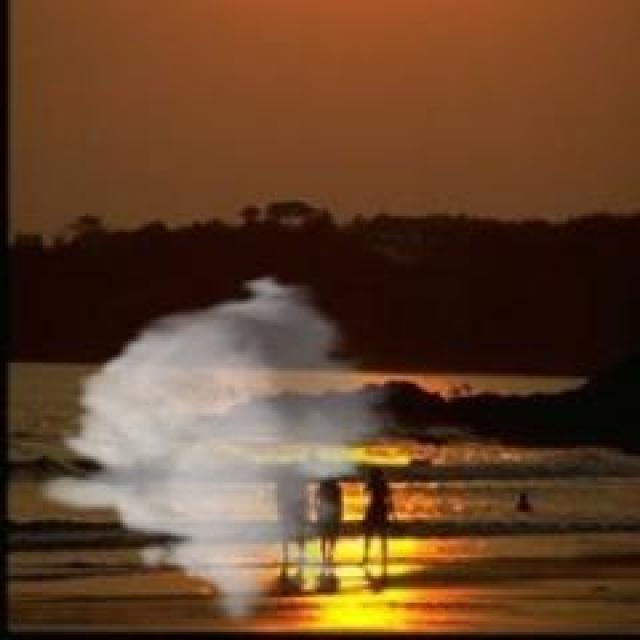Smoke: (35, 264, 470, 628)
